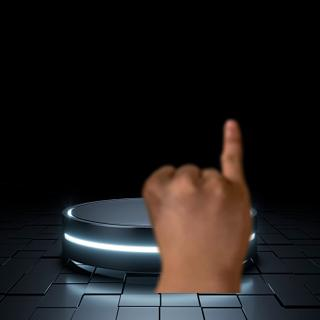FINE: (140, 117, 254, 275)
